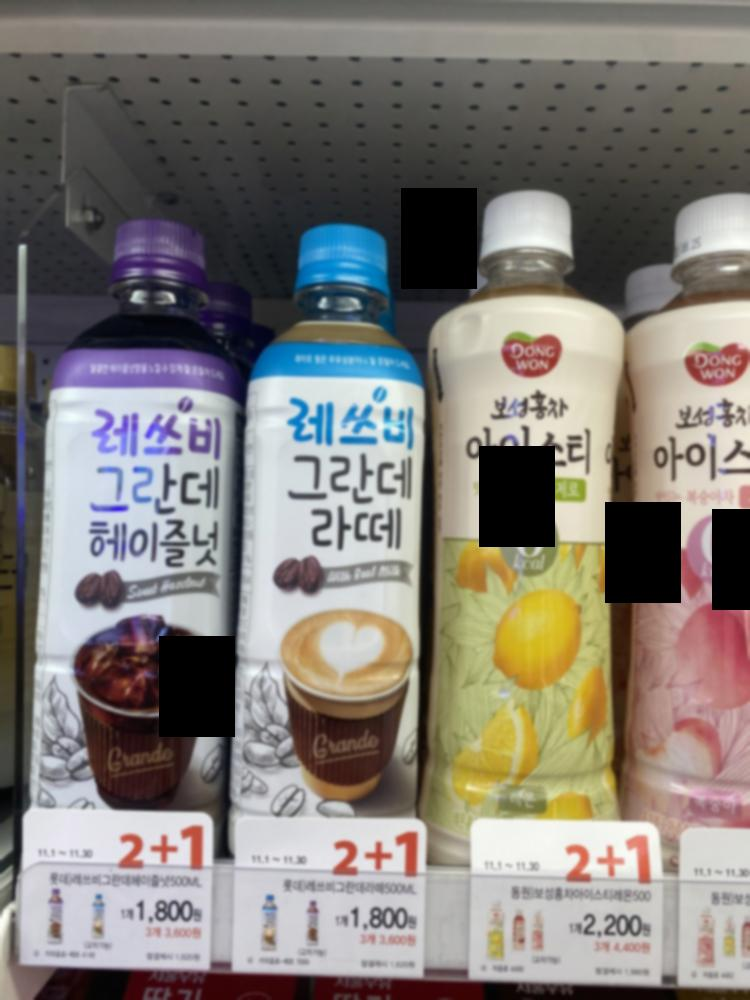letsbe_grande_hazelnut: (33, 208, 216, 809)
